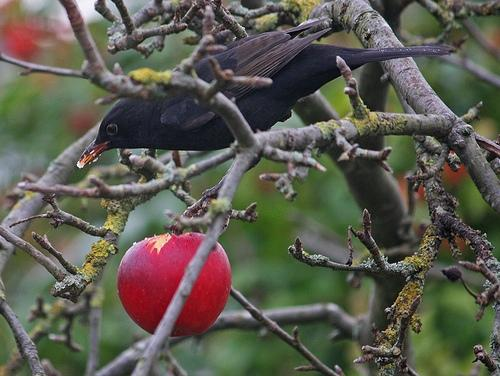apple: (116, 232, 231, 337), (0, 20, 38, 62)
